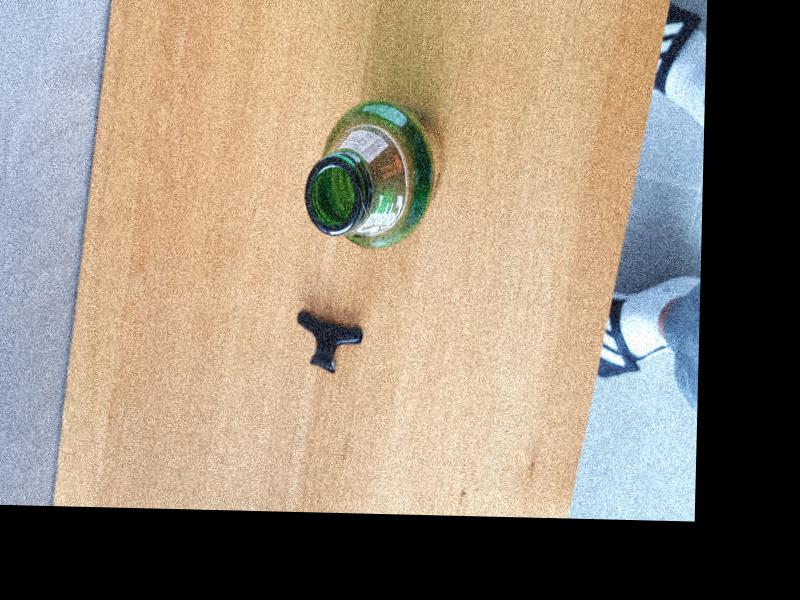Beer: (304, 99, 447, 254)
